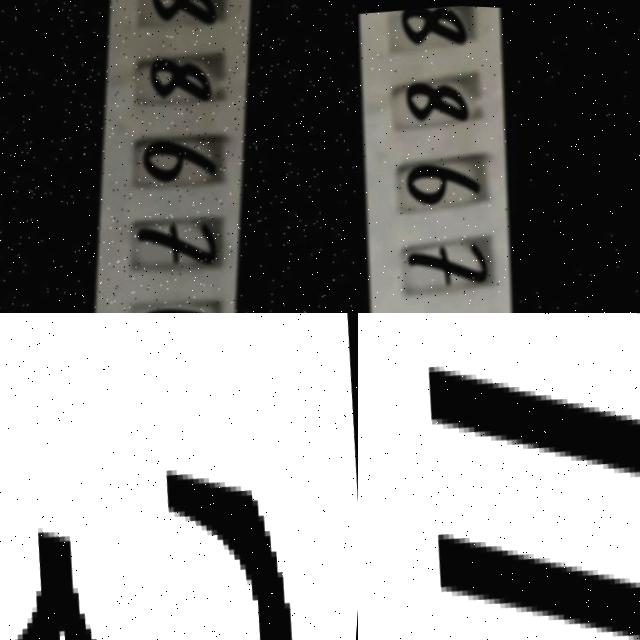0: (134, 282, 234, 313)
3: (0, 313, 338, 640)
6: (136, 119, 232, 190), (401, 145, 492, 209)
7: (130, 199, 234, 277), (403, 225, 502, 295)
8: (137, 37, 233, 106), (396, 64, 486, 126), (388, 0, 480, 50), (136, 0, 234, 30)
M: (387, 313, 640, 640)
